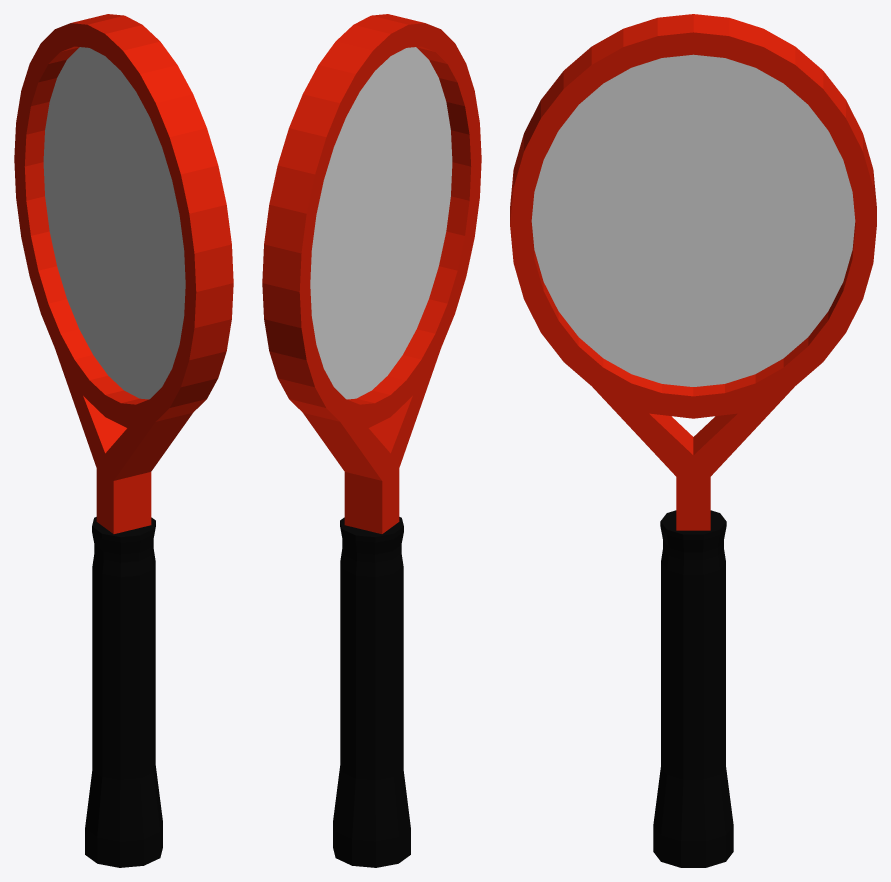
File: racket_1.fbx
3 renders of one model, left to right at view 1: azimuth 30°, elevation 25°; view 2: azimuth 150°, elevation 25°; view 3: azimuth 270°, elevation 25°, orthographic.
Visible parts, largest first — view 1: Raqueta, Red; view 2: Raqueta, Red; view 3: Red, Raqueta.
Part boxes in pixels (bbox=[...]): Raqueta: bbox=[14, 14, 233, 867]; Red: bbox=[43, 47, 185, 399]; Raqueta: bbox=[262, 14, 481, 867]; Red: bbox=[310, 47, 452, 399]; Red: bbox=[531, 54, 855, 386]; Raqueta: bbox=[510, 14, 876, 867].
Bounding box in the file's own units: 40.55 × 485 × 195.
